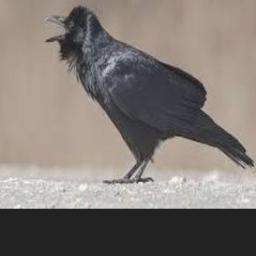Crow: (44, 5, 254, 184)
